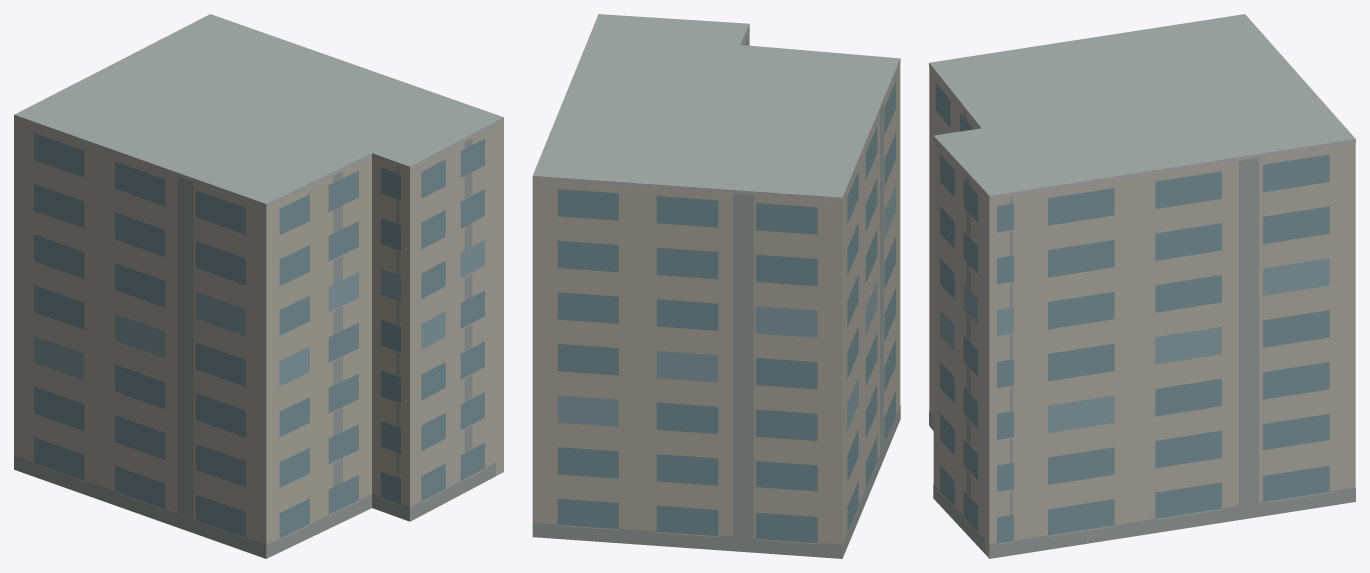
Rendered from survey-upis-32865643.glb.
The picture shows the model from 3 angles, left to right: view 1: azimuth 30°, elevation 25°; view 2: azimuth 150°, elevation 25°; view 3: azimuth 270°, elevation 25°; orthographic projection. The views are drawn at different scales.
Visible parts, largest first — view 1: survey-upis-32865643.tmp; view 2: survey-upis-32865643.tmp; view 3: survey-upis-32865643.tmp.
Part boxes in pixels (x1,y1,x2,y2): survey-upis-32865643.tmp: (14, 14, 503, 558); survey-upis-32865643.tmp: (532, 14, 900, 558); survey-upis-32865643.tmp: (929, 14, 1355, 558).
Bounding box in the file's own units: 24.36 × 22.65 × 24.14.
